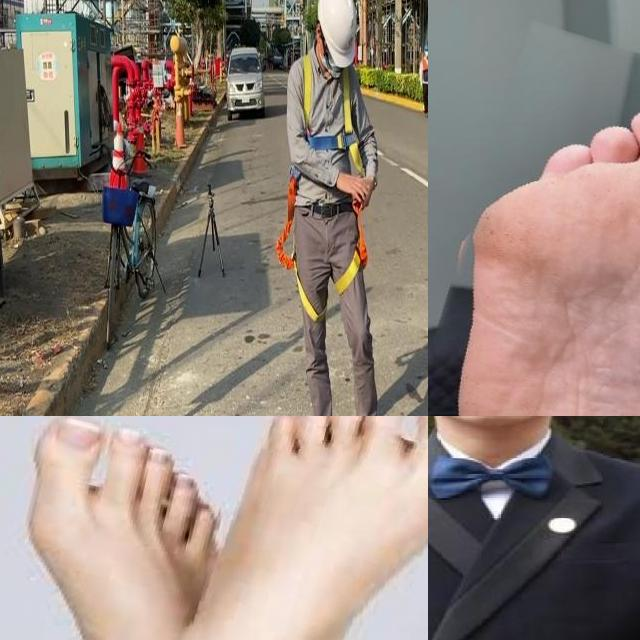Barefoots: (428, 30, 640, 416), (155, 416, 428, 640)
Harness: (276, 171, 365, 322), (303, 55, 364, 174)
person: (428, 416, 640, 640)
